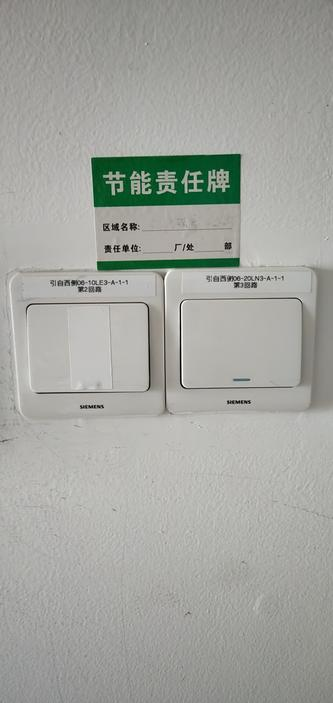switch: (179, 299, 308, 390), (22, 302, 71, 393), (63, 302, 113, 391), (109, 298, 153, 392)
